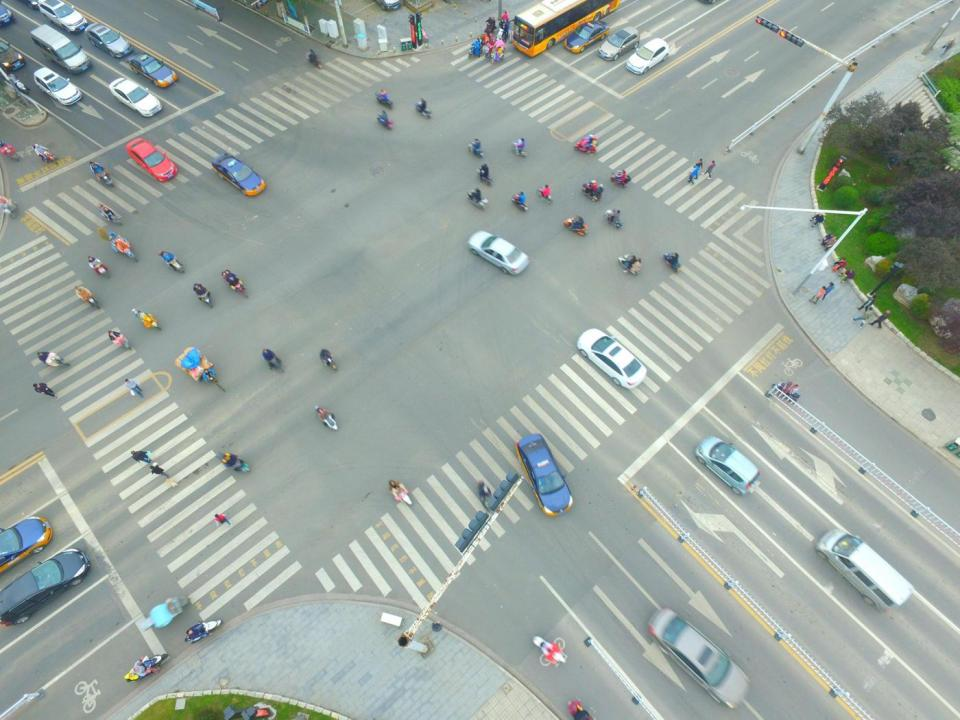car: (648, 603, 751, 708), (0, 546, 91, 626), (507, 0, 620, 57), (514, 432, 574, 517), (577, 326, 655, 390), (693, 434, 763, 496), (0, 516, 52, 574), (469, 230, 532, 274), (212, 152, 268, 198), (125, 137, 180, 183), (109, 71, 163, 116), (127, 45, 178, 88), (84, 21, 136, 60), (33, 65, 82, 106), (34, 0, 88, 34), (625, 38, 671, 75), (564, 20, 612, 55), (598, 27, 642, 61), (531, 634, 568, 665)
van: (814, 526, 916, 614), (29, 25, 92, 74)
